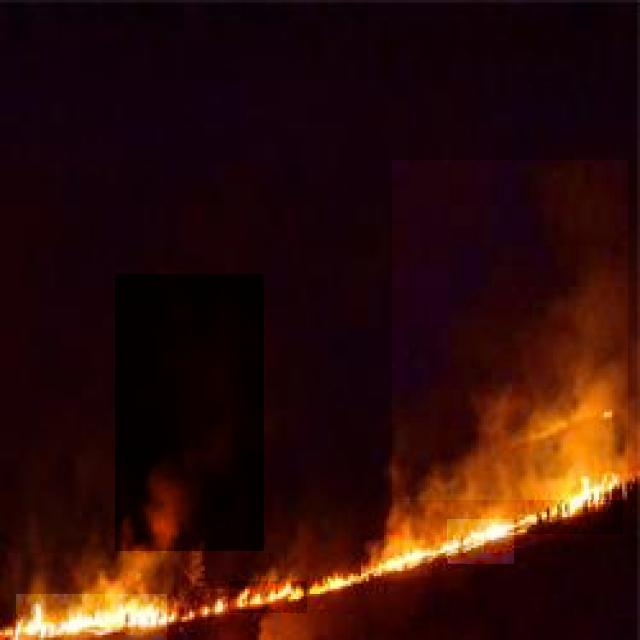Fire: (16, 594, 167, 640), (528, 468, 624, 534), (447, 519, 514, 564), (365, 540, 432, 578), (230, 581, 308, 613), (314, 575, 363, 597)
Smoke: (392, 160, 628, 500), (115, 274, 264, 551)
